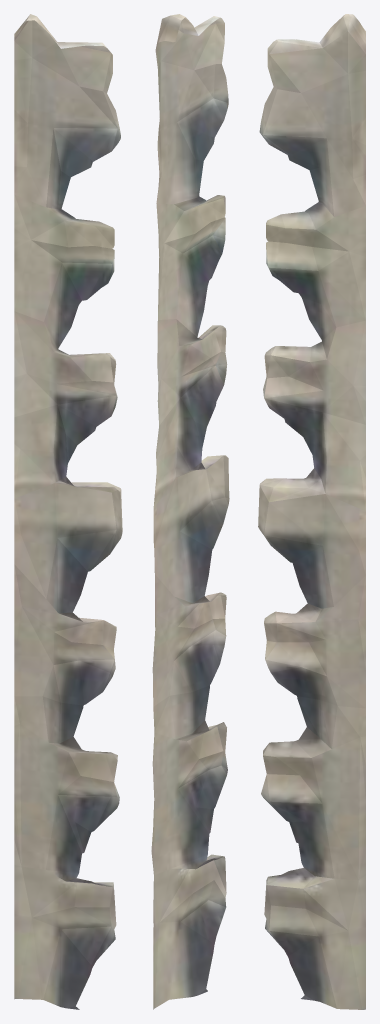
Rendered from Tile_+004_+000_L21_0003020.glb.
3 renders of one model, left to right at view 1: azimuth 90°, elevation 25°; view 2: azimuth 150°, elevation 25°; view 3: azimuth 270°, elevation 25°, orthographic.
Parts seen in each view (by area): view 1: rtc; view 2: rtc; view 3: rtc.
Part boxes in pixels (left/top/right/bottom): rtc: left=14, top=14, right=122, bottom=1009; rtc: left=151, top=14, right=229, bottom=1009; rtc: left=258, top=14, right=365, bottom=1009.
Bounding box in the file's own units: 0.4279 × 16.37 × 1.62.
1 material, 1 textured.
